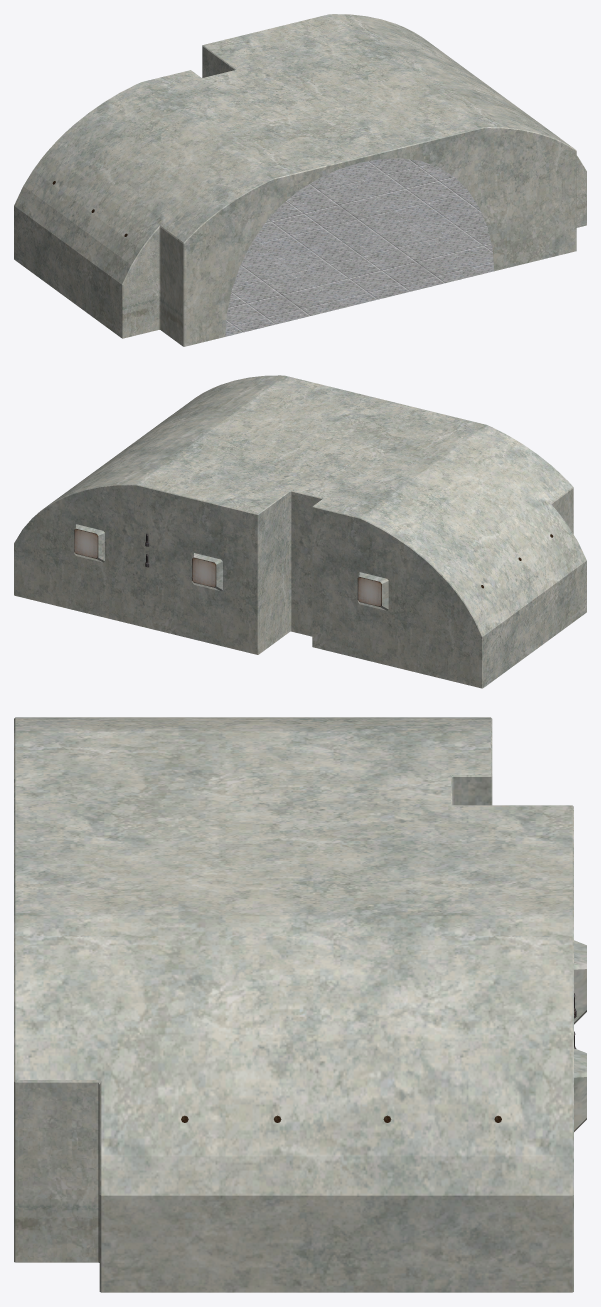
Rendered from thm_all_cantina_r6_alcove3_mesh_r6.fbx.
The picture shows the model from 3 angles, top to bottom: view 1: azimuth 30°, elevation 25°; view 2: azimuth 150°, elevation 25°; view 3: azimuth 270°, elevation 25°; orthographic projection. The views are drawn at different scales.
Visible parts, largest first — view 1: mesh_node; view 2: mesh_node; view 3: mesh_node.
Part boxes in pixels (left/top/right/bottom): mesh_node: left=14, top=14, right=586, bottom=346; mesh_node: left=14, top=375, right=586, bottom=688; mesh_node: left=14, top=717, right=586, bottom=1292.
Bounding box in the file's own units: 13.82 × 4.15 × 8.17.
